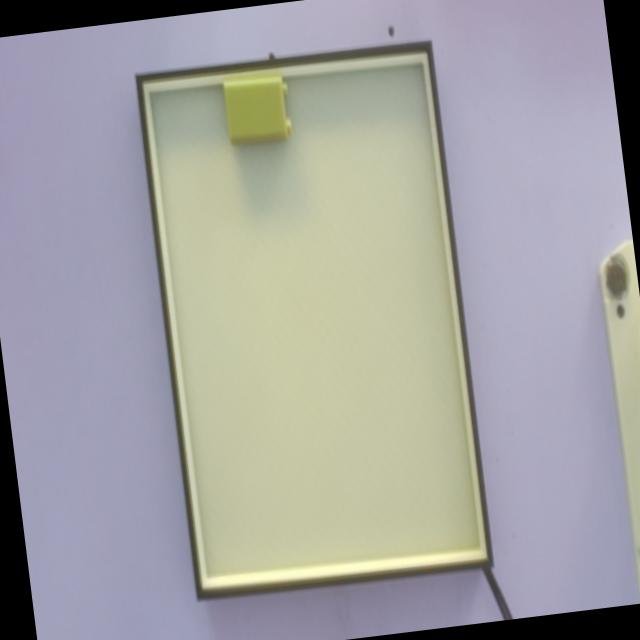bateria: (222, 71, 293, 143)
mesa: (134, 40, 493, 600)
